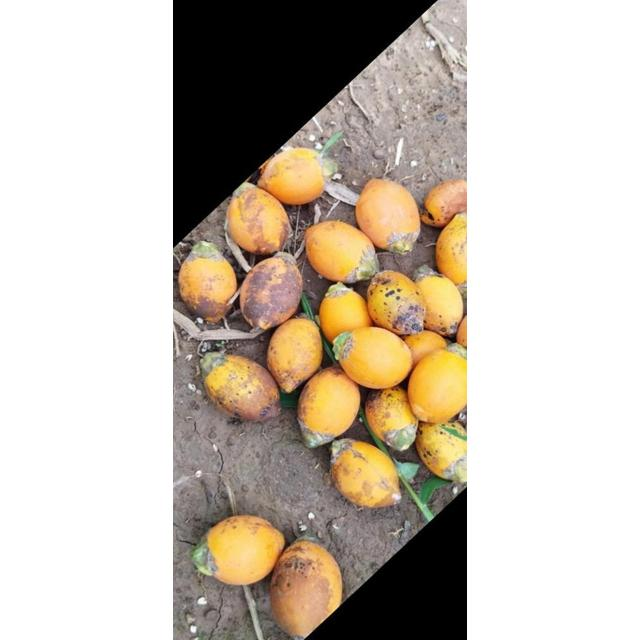good: (268, 538, 344, 636), (192, 516, 286, 586), (200, 352, 282, 422), (297, 366, 361, 446), (238, 255, 304, 331), (335, 326, 413, 389), (328, 439, 400, 507), (178, 240, 236, 322), (356, 178, 420, 252), (407, 345, 467, 423), (306, 222, 378, 284), (266, 318, 322, 394), (228, 186, 290, 254), (366, 271, 426, 337), (259, 148, 325, 205), (364, 386, 420, 450), (318, 282, 374, 346), (414, 266, 464, 336), (414, 418, 466, 482), (435, 211, 467, 285), (421, 180, 467, 228), (402, 329, 448, 368), (188, 239, 225, 259), (199, 350, 225, 376), (292, 530, 324, 546), (232, 181, 255, 197), (258, 180, 274, 196)
